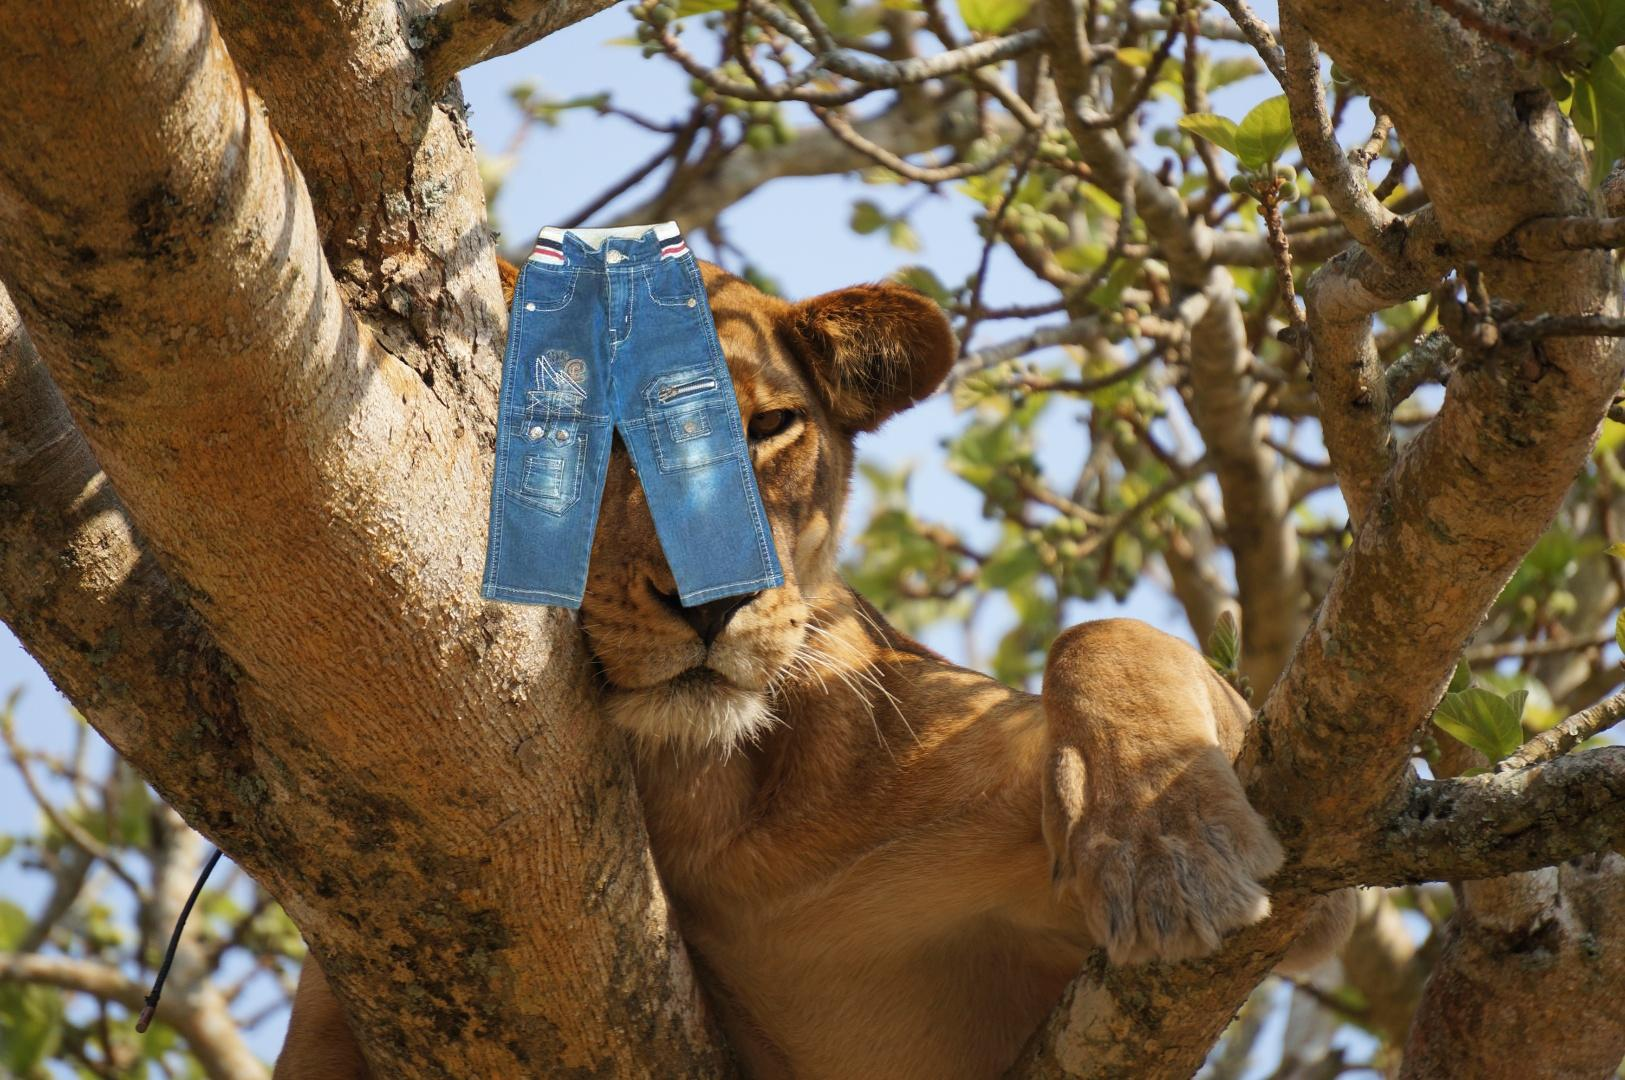clothes: (476, 217, 790, 611)
